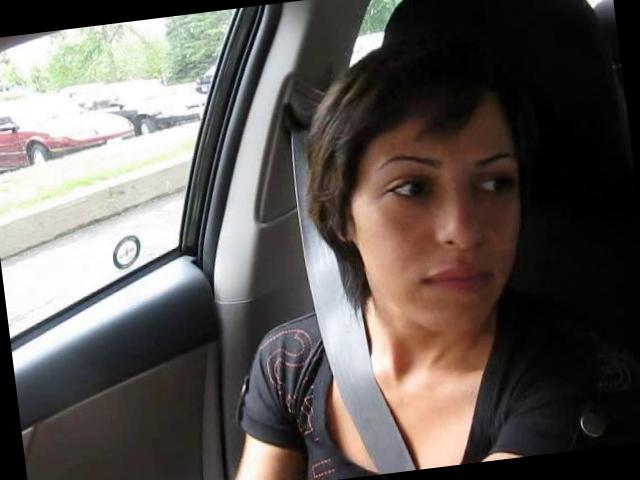eye_open: (376, 163, 445, 214), (466, 164, 522, 206)
face: (345, 119, 541, 348)
